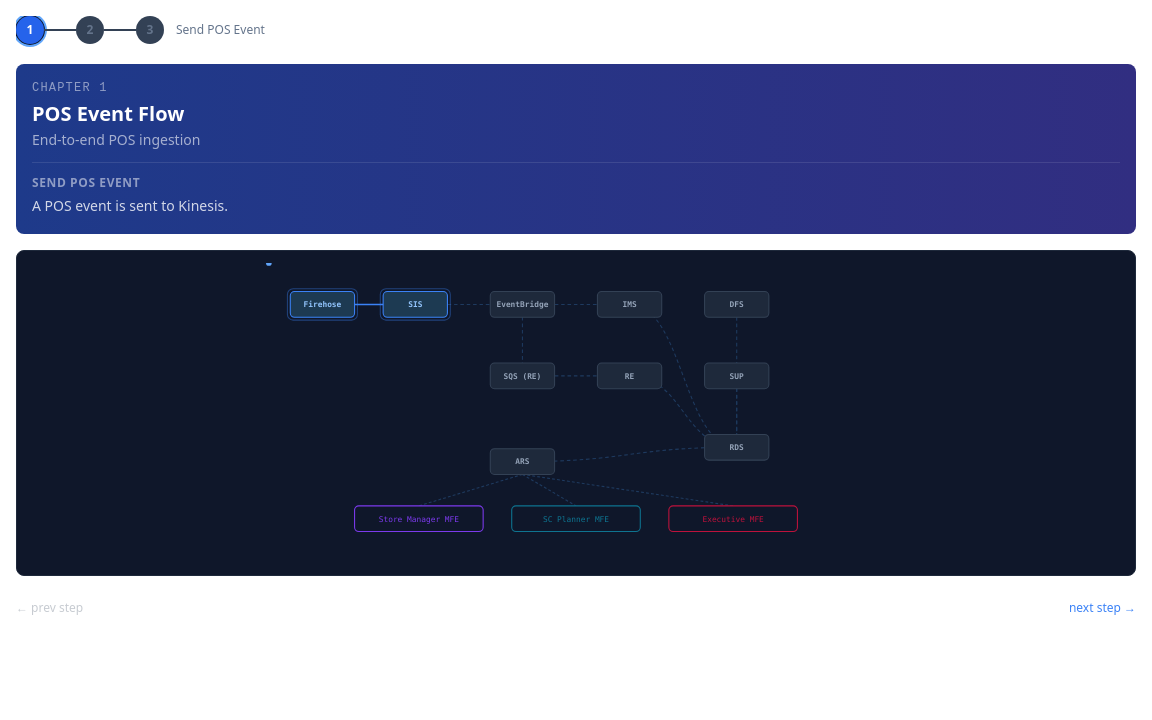
Test case: ChapterView › navigates to next step when next is clicked
Click the button "next step →". click: [1102, 608]
box: [1069,600,1136,616]
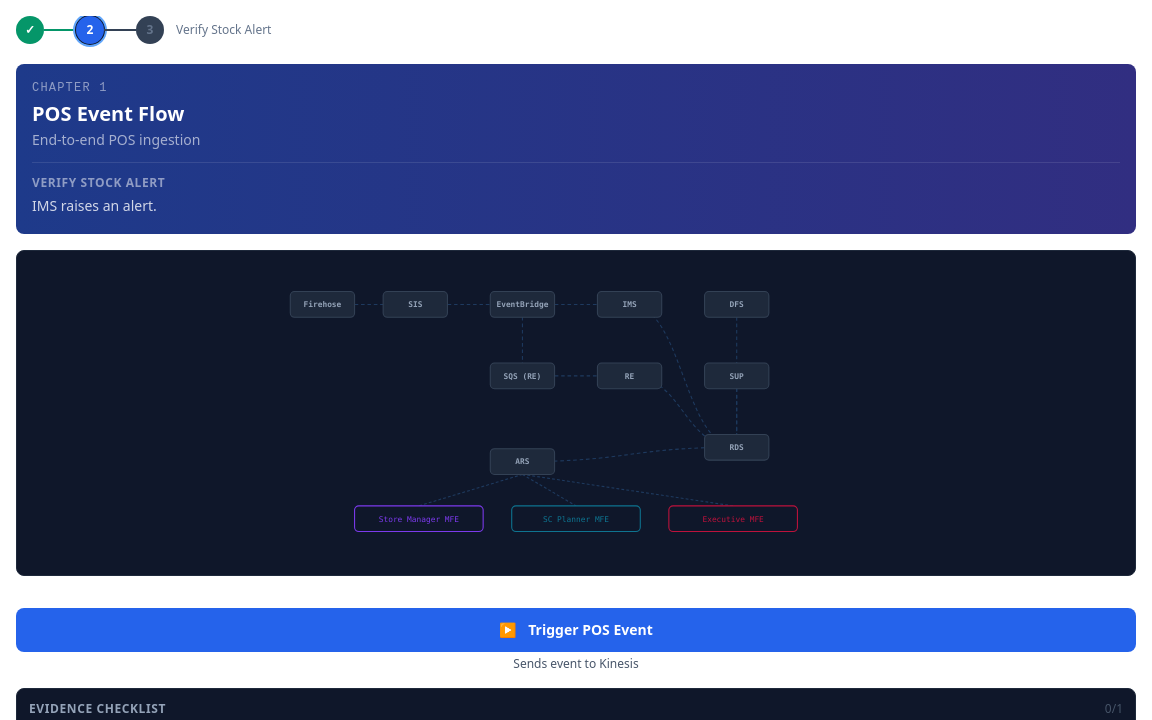
Now the text "IMS raises an alert." is shown, box [32,196,157,215]
